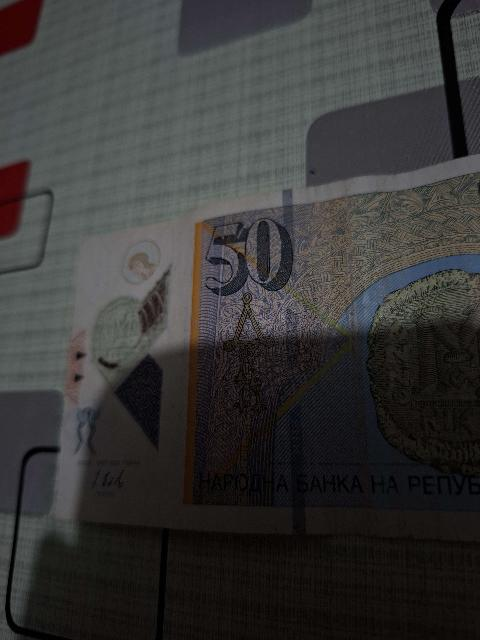50_note: (46, 157, 479, 547)
